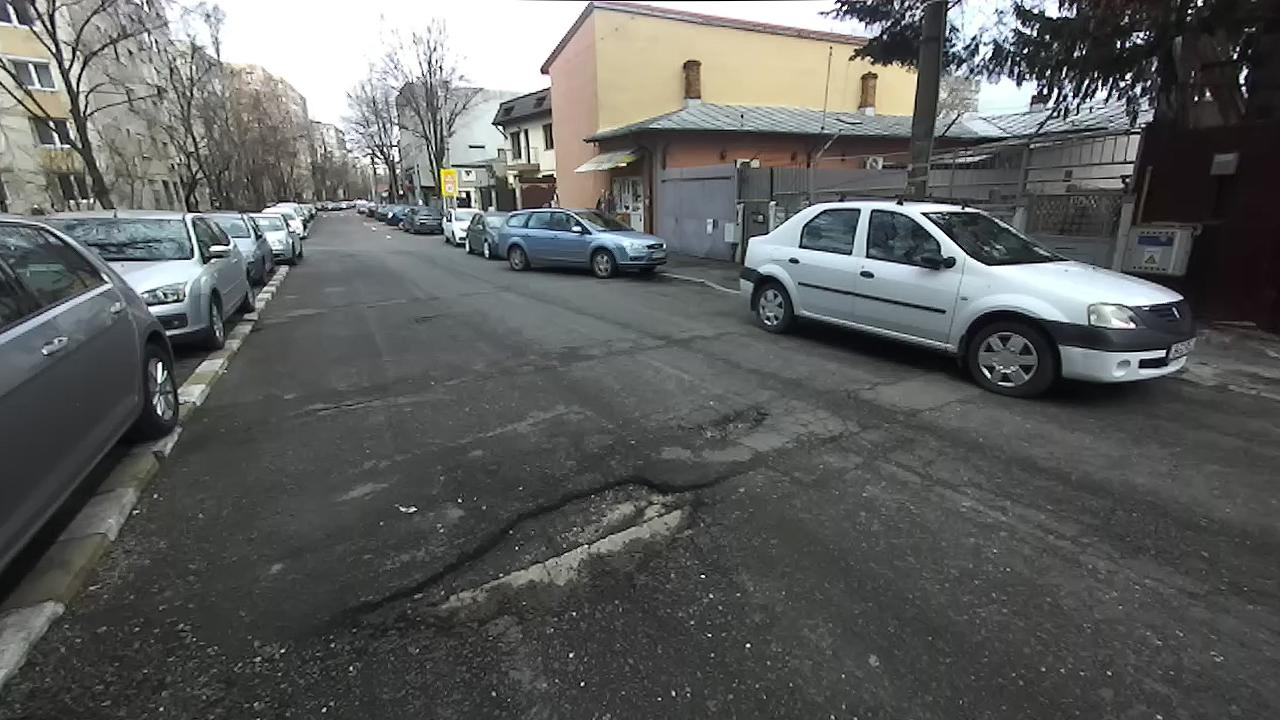pothole: (334, 463, 749, 636), (674, 397, 777, 446), (297, 389, 392, 422)
